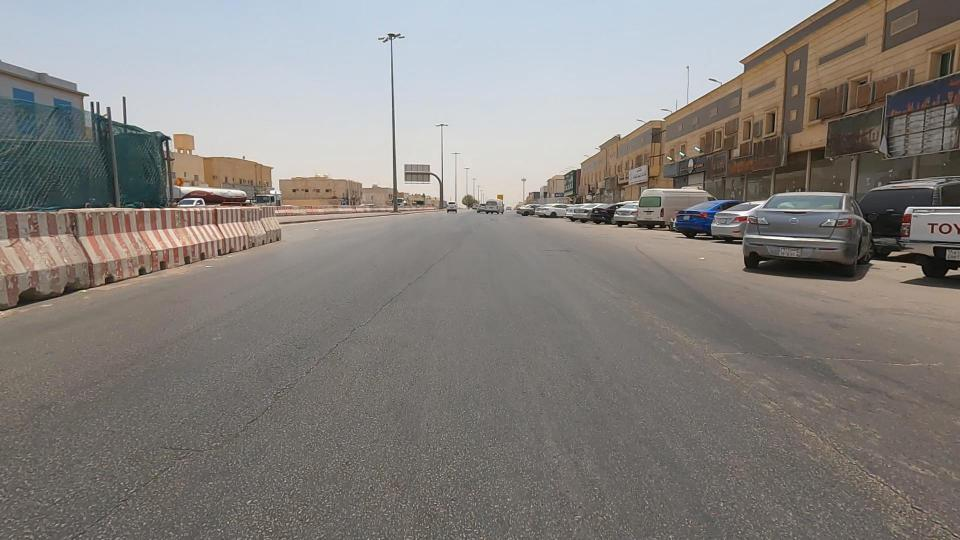BAD_BILLBOARD: (843, 52, 960, 202), (678, 117, 833, 201), (784, 85, 917, 179), (623, 145, 718, 191), (680, 136, 758, 184)
CONSTRUCTION_ROAD: (0, 34, 274, 339)
